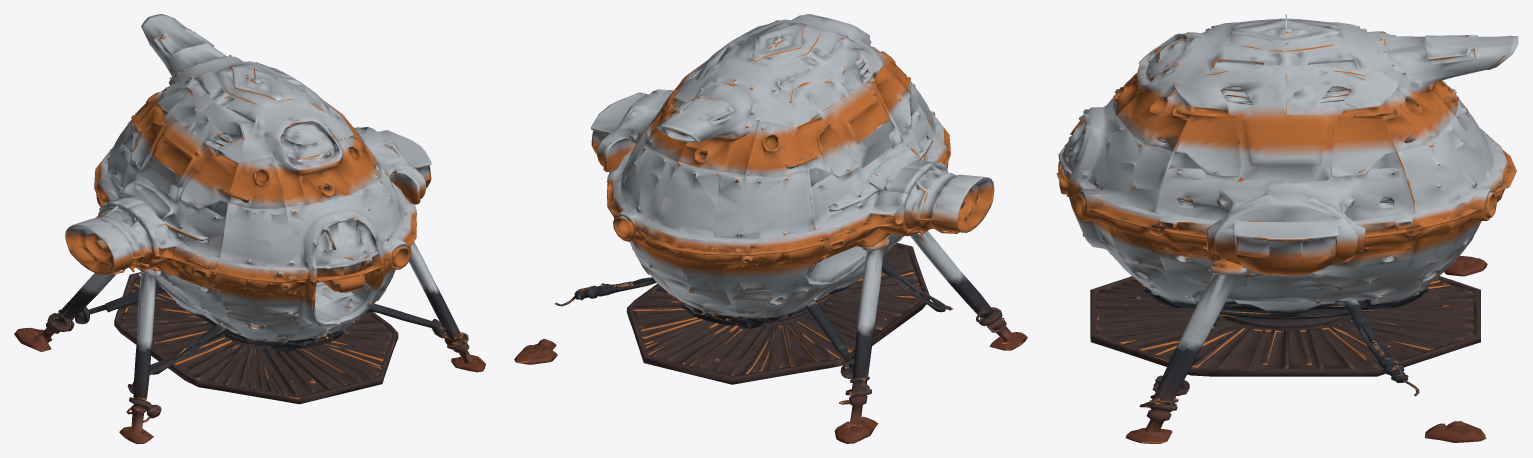
The model's file is SM_Tripo_DropLander.fbx.
3 views of the same model, side by side, from view 1: azimuth 30°, elevation 25°; view 2: azimuth 150°, elevation 25°; view 3: azimuth 270°, elevation 25° (orthographic). The views are drawn at different scales.
Visible parts, largest first — view 1: SM_Tripo_DropLander; view 2: SM_Tripo_DropLander; view 3: SM_Tripo_DropLander.
Part boxes in pixels (left/top/right/bottom): SM_Tripo_DropLander: left=14, top=14, right=485, bottom=443; SM_Tripo_DropLander: left=514, top=14, right=1027, bottom=443; SM_Tripo_DropLander: left=1056, top=14, right=1518, bottom=443.
Size of the model in its own units: 250 by 200 by 250.
Materials: 1 (1 with a texture image).
